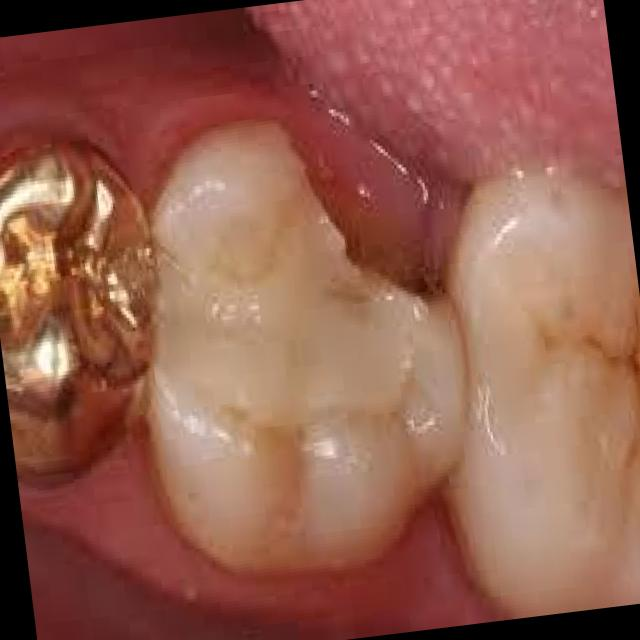Tooth: (138, 117, 471, 578), (443, 163, 640, 616)
